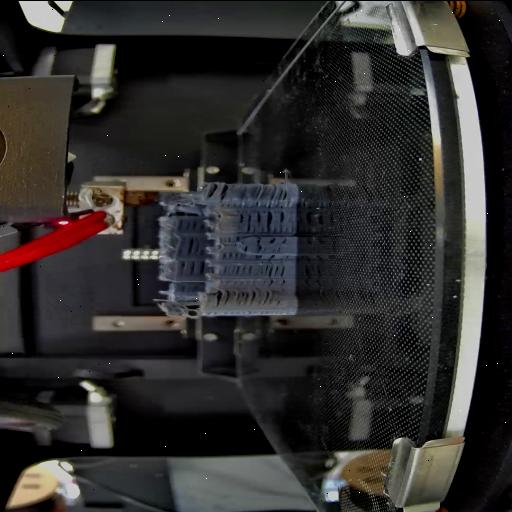cracks: (234, 184, 289, 206), (210, 288, 276, 306), (256, 210, 291, 233), (258, 263, 288, 287), (206, 182, 228, 204), (176, 259, 206, 275), (180, 237, 204, 257), (222, 262, 254, 276), (236, 212, 252, 232), (178, 218, 204, 230), (250, 254, 290, 260), (267, 236, 290, 244), (254, 236, 263, 254), (222, 251, 239, 260), (220, 236, 242, 242), (242, 242, 248, 252)
